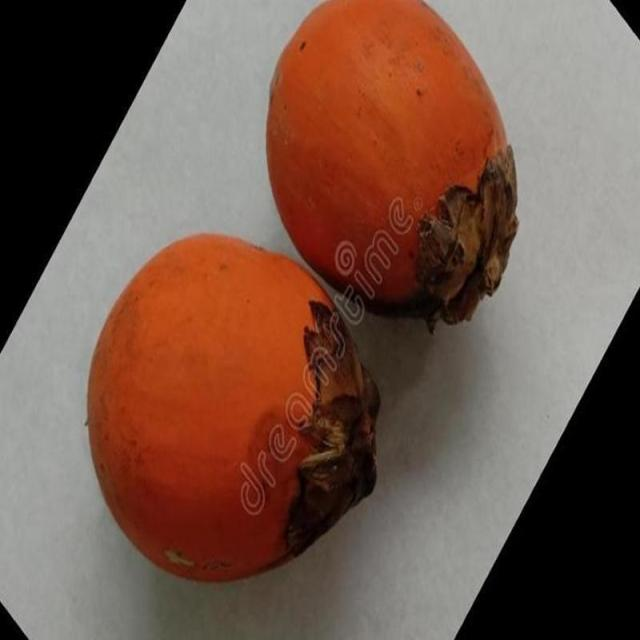good: (86, 233, 381, 585), (264, 0, 518, 326)
